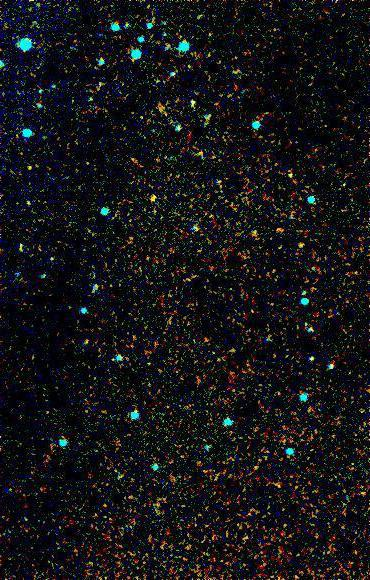star: (138, 182, 168, 212)
